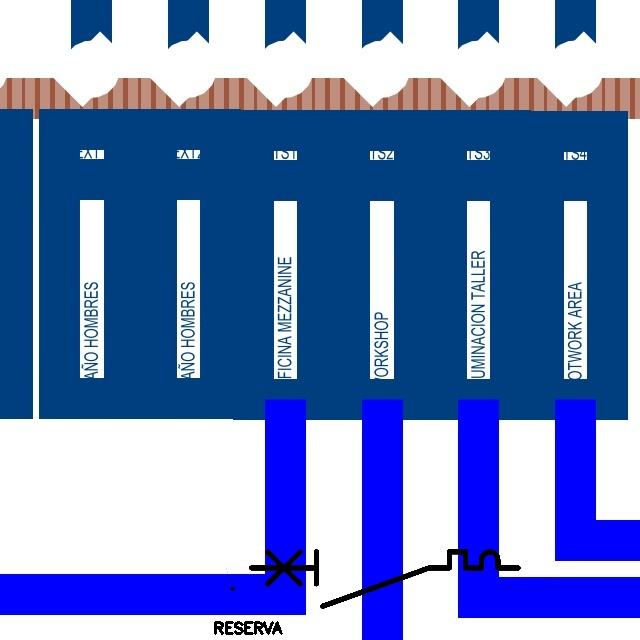interruptor_termomagnetico: (244, 545, 524, 613)
